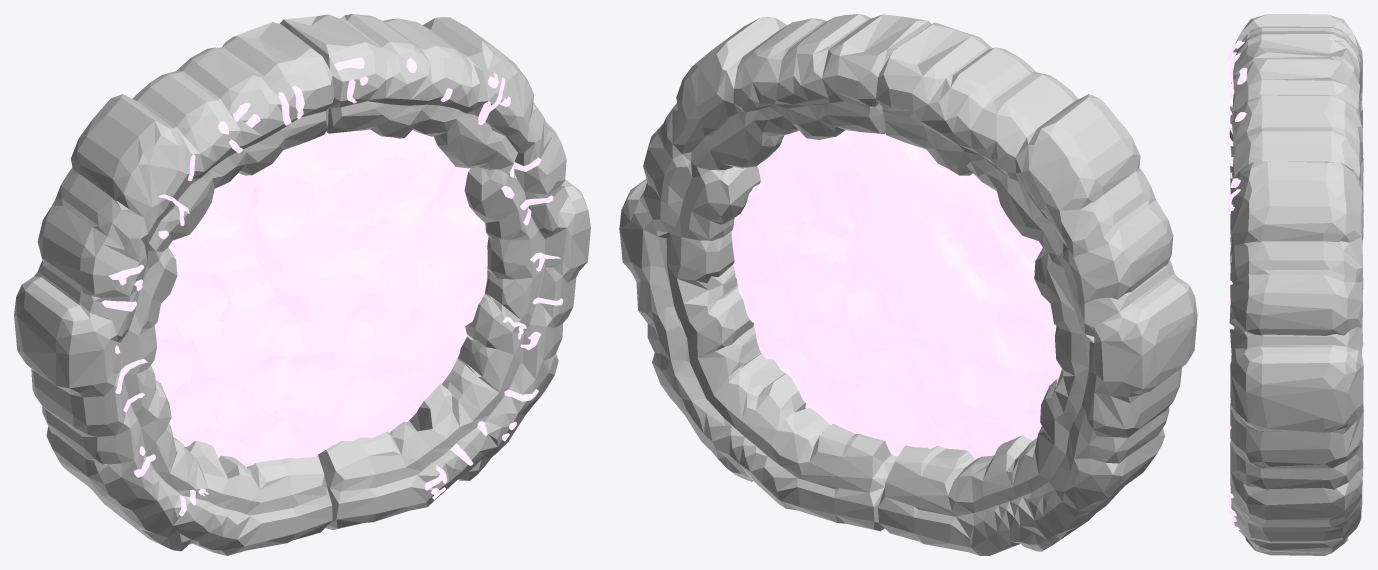
Rendered from Portal.fbx.
The picture shows the model from 3 angles, left to right: view 1: azimuth 30°, elevation 25°; view 2: azimuth 150°, elevation 25°; view 3: azimuth 270°, elevation 25°; orthographic projection. The views are drawn at different scales.
Visible parts, largest first — view 1: Portal, IntPortal; view 2: Portal, IntPortal; view 3: Portal.
Part boxes in pixels (x1,y1,x2,y2): Portal: (14,14,590,555); IntPortal: (151,129,488,467); Portal: (619,14,1197,555); IntPortal: (731,130,1061,459); Portal: (1226,14,1363,555).
Size of the model in its own units: 1604 by 1397 by 389.
